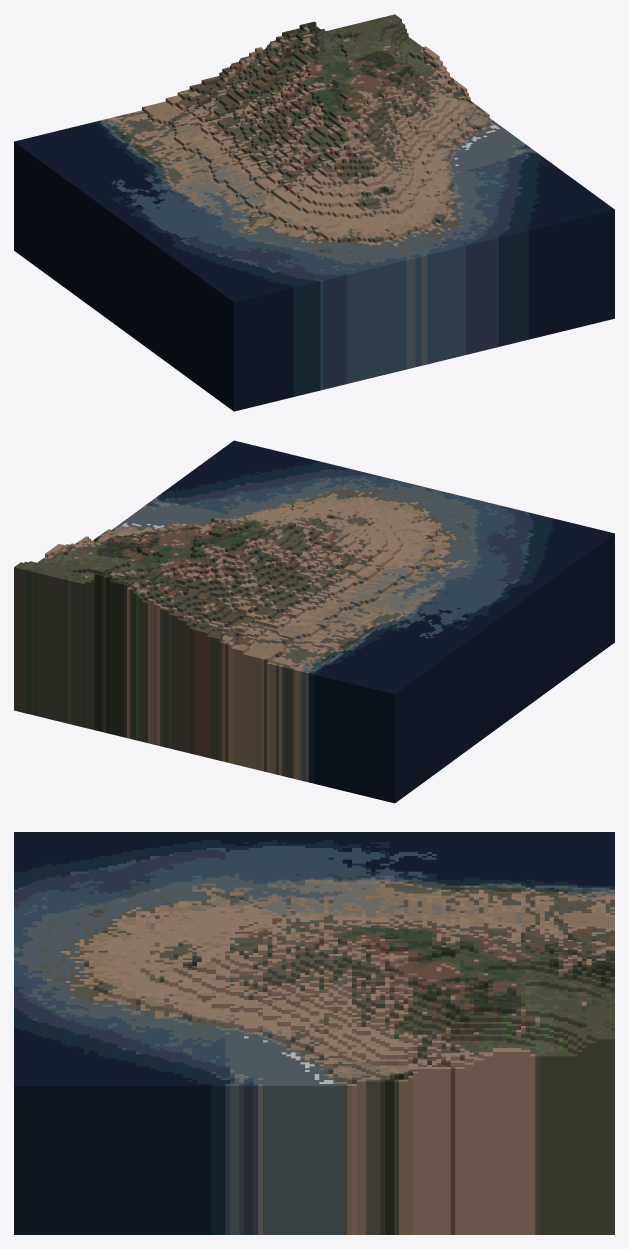
The model's file is MapⅤ2-3.obj.
3 views of the same model, one above another, from view 1: azimuth 30°, elevation 25°; view 2: azimuth 150°, elevation 25°; view 3: azimuth 270°, elevation 25° (orthographic). The views are drawn at different scales.
Size of the model in its own units: 12.8 by 5 by 12.8.
1 material, 1 textured.
